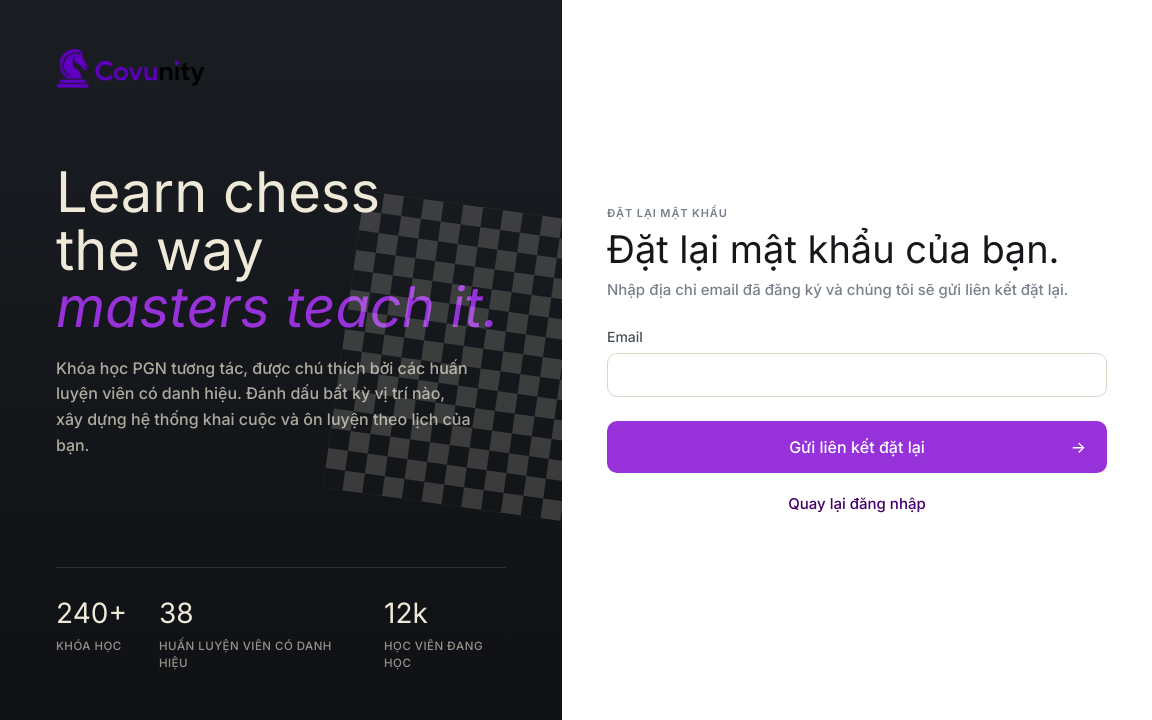
Test: ForgotPasswordPage › shows invalid email error
Type "bad-email" into the field labelled "Email" at x=857, y=375, box [607,353,1107,397]
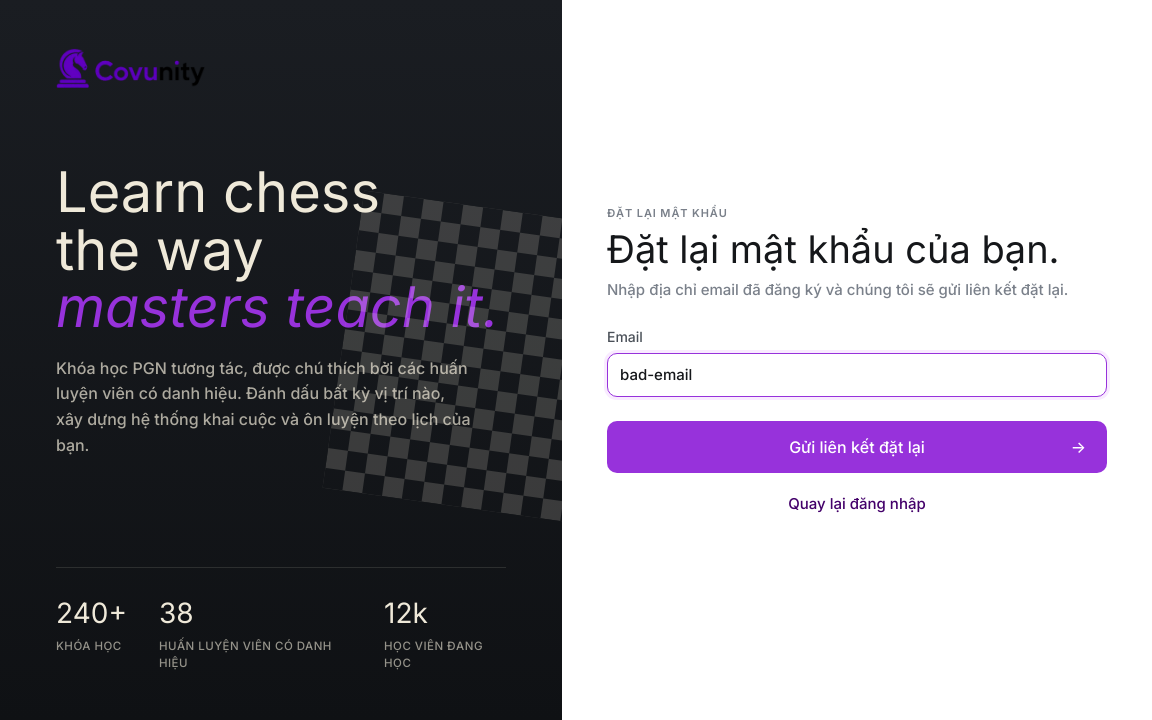
Click the button "Gửi liên kết đặt lại →" at x=857, y=447, box [607,421,1107,473]
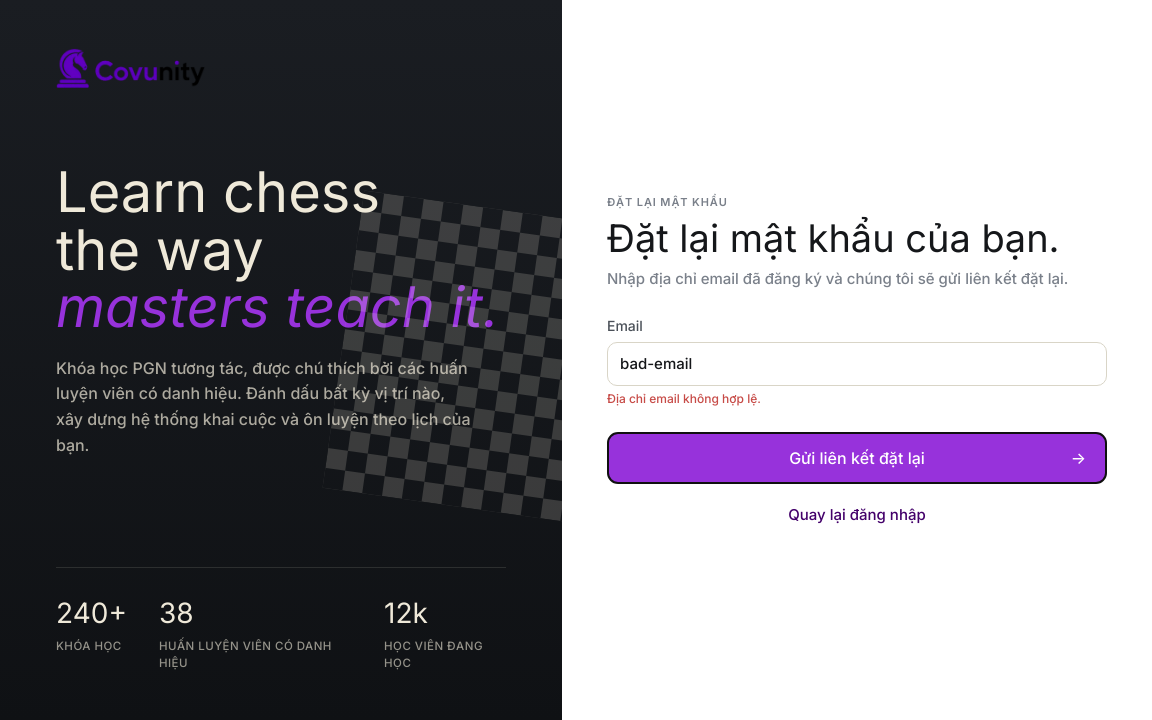
Check: the text "Địa chỉ email không hợp lệ." is shown, box [607,391,761,406]
